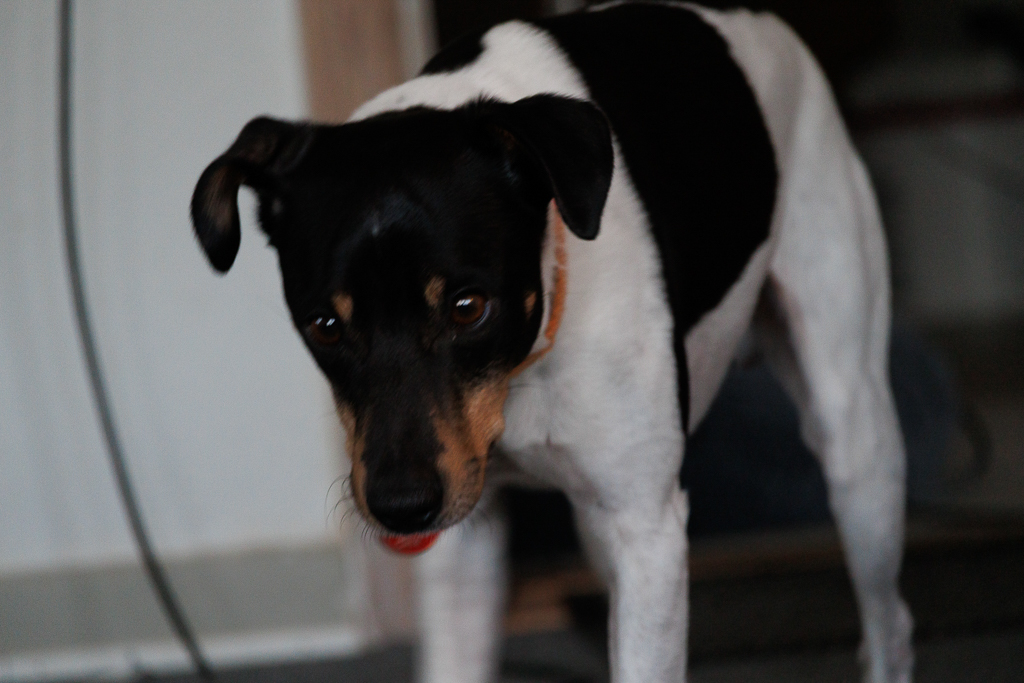Dog: (183, 0, 925, 683)
